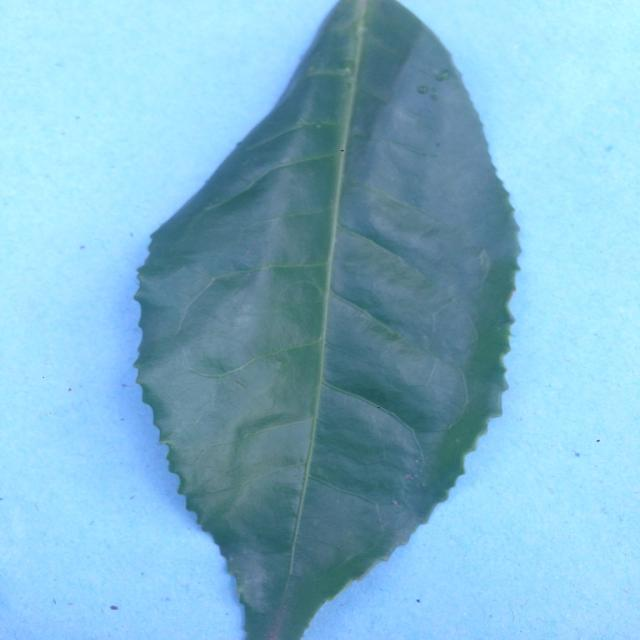Healthy: (118, 0, 539, 637)
